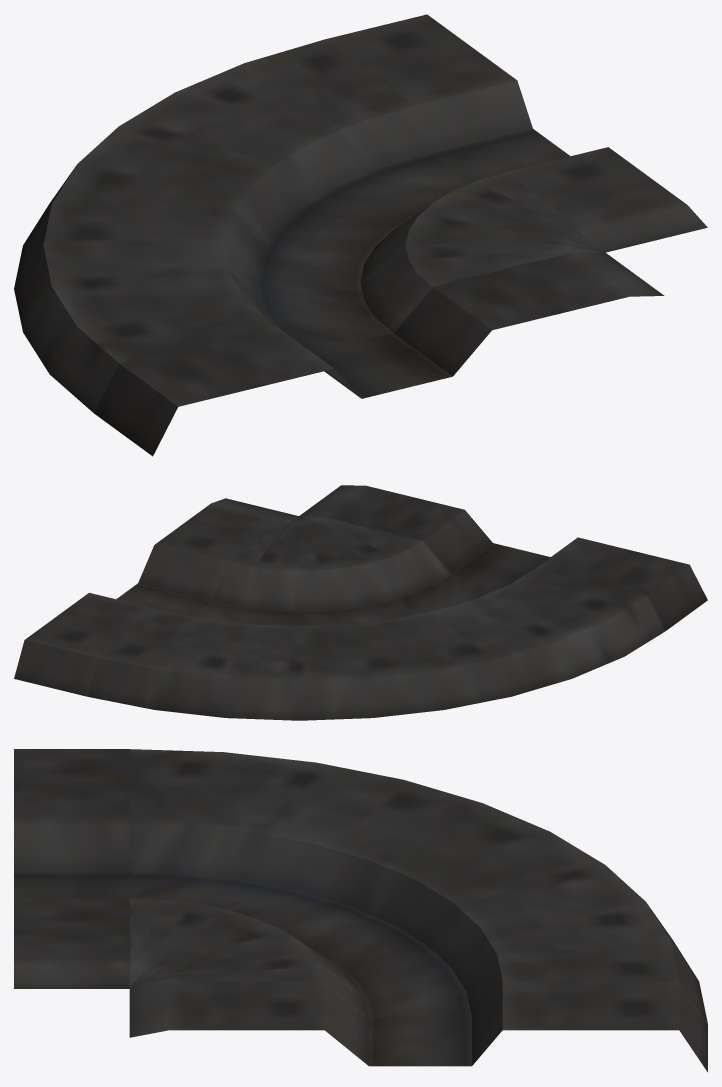
The model's file is lab_floor_welder_convex_tiny_noyellow.dae.
3 views of the same model, one above another, from view 1: azimuth 30°, elevation 25°; view 2: azimuth 150°, elevation 25°; view 3: azimuth 270°, elevation 25° (orthographic). The views are drawn at different scales.
Visible parts, largest first — view 1: floor_welder_convex_tiny_noyellow; view 2: floor_welder_convex_tiny_noyellow; view 3: floor_welder_convex_tiny_noyellow.
Part boxes in pixels (<box>): floor_welder_convex_tiny_noyellow: <box>14,14,707,456</box>; floor_welder_convex_tiny_noyellow: <box>14,485,707,720</box>; floor_welder_convex_tiny_noyellow: <box>14,749,707,1072</box>.
Size of the model in its own units: 0.375 by 0.0254 by 0.375.
